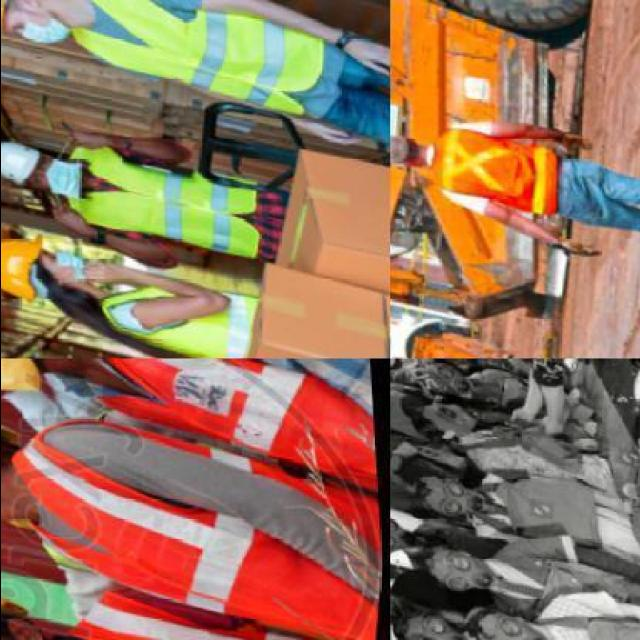helmet: (2, 227, 46, 315), (0, 135, 41, 187)
jacket: (20, 418, 379, 634), (65, 0, 326, 131), (68, 140, 266, 256), (430, 127, 568, 223)
